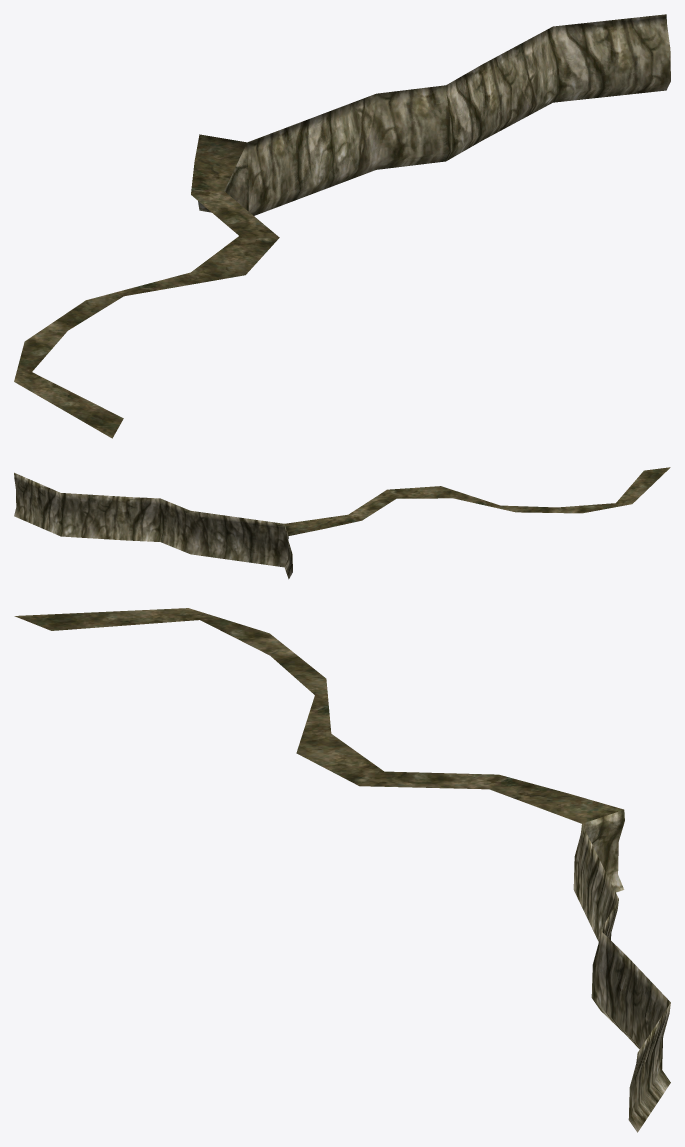
The model's file is CB_NEWPLAYSURFACE_CB_PLAYSURFACE141.obj.
3 views of the same model, one above another, from view 1: azimuth 30°, elevation 25°; view 2: azimuth 150°, elevation 25°; view 3: azimuth 270°, elevation 25° (orthographic). The views are drawn at different scales.
Parts seen in each view (by area): view 1: _playsurface141; view 2: _playsurface141; view 3: _playsurface141.
Boxes of the visible parts, x1,y1,x2,y2 form: _playsurface141: [14, 14, 670, 438]; _playsurface141: [14, 467, 670, 579]; _playsurface141: [14, 608, 670, 1132].
Bounding box in the file's own units: 4757 × 400 × 2969.
